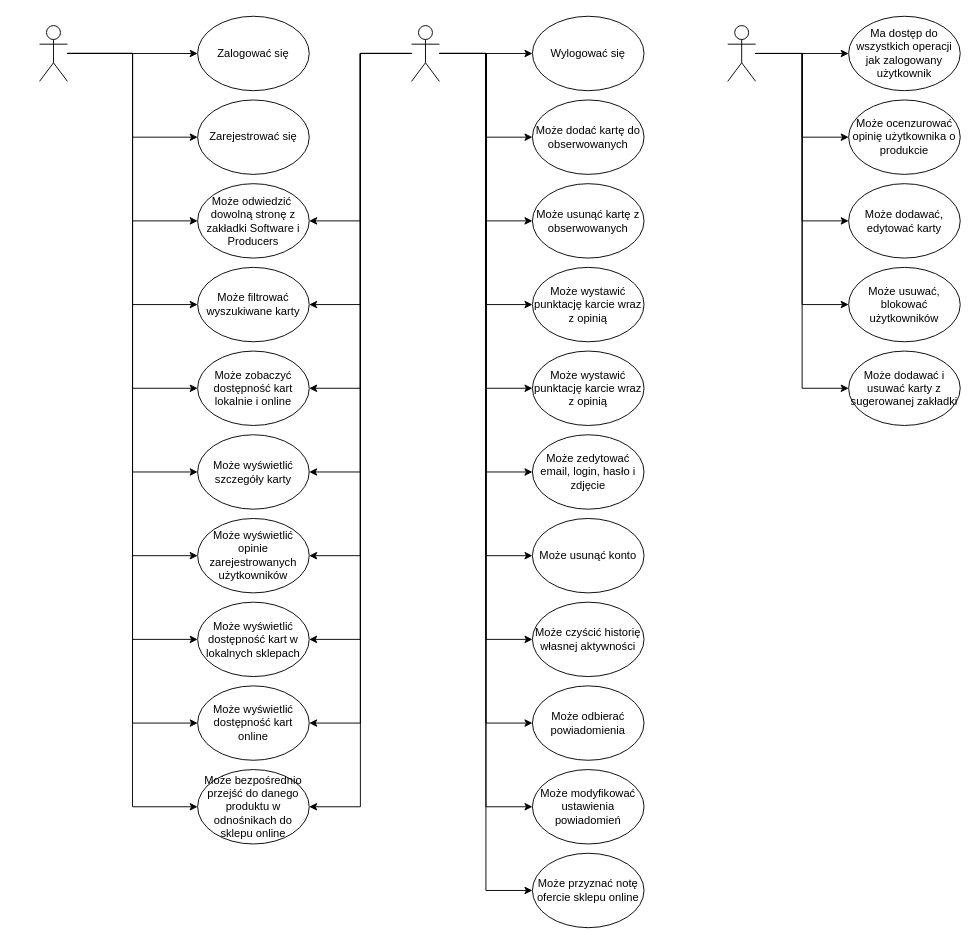
Image size: 977x944. Some labels were removed from this diagram. Each missing label, with the box of its shape:
Administrator: (727, 25, 756, 81)
Niezalogowany użytkownik: (39, 25, 67, 81)
Zalogowany użytkownik: (411, 25, 439, 81)
